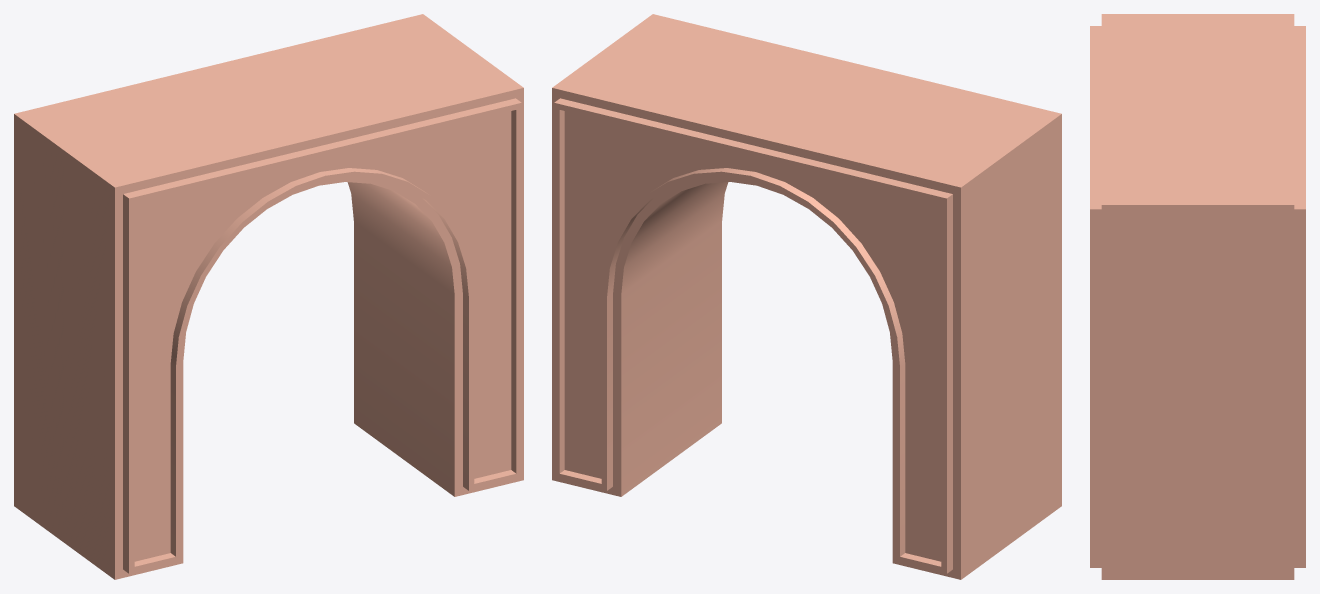
Rendered from Arch.fbx.
3 renders of one model, left to right at view 1: azimuth 30°, elevation 25°; view 2: azimuth 150°, elevation 25°; view 3: azimuth 270°, elevation 25°, orthographic. The views are drawn at different scales.
Parts seen in each view (by area): view 1: Arch; view 2: Arch; view 3: Arch.
Boxes of the visible parts, left/top/right/bottom form: Arch: left=14, top=14, right=523, bottom=579; Arch: left=552, top=14, right=1061, bottom=579; Arch: left=1090, top=14, right=1305, bottom=579.
Bounding box in the file's own units: 1363 × 1250 × 652.
